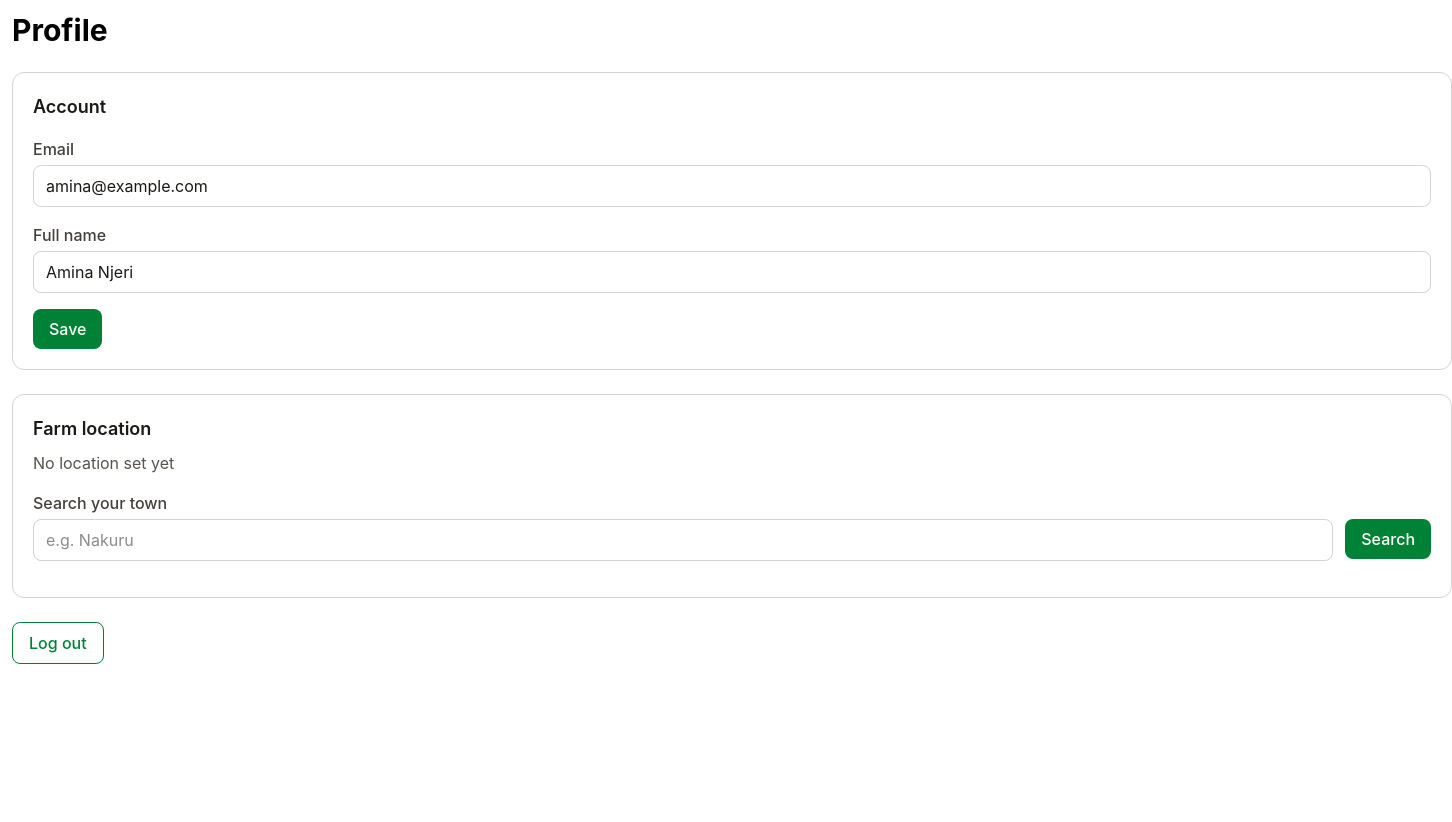
Test: Profile page › shows "No towns found" when nothing matches
In the field labelled "Search your town": coordinates (683, 540) [33,519,1333,561], type "Zzzz"
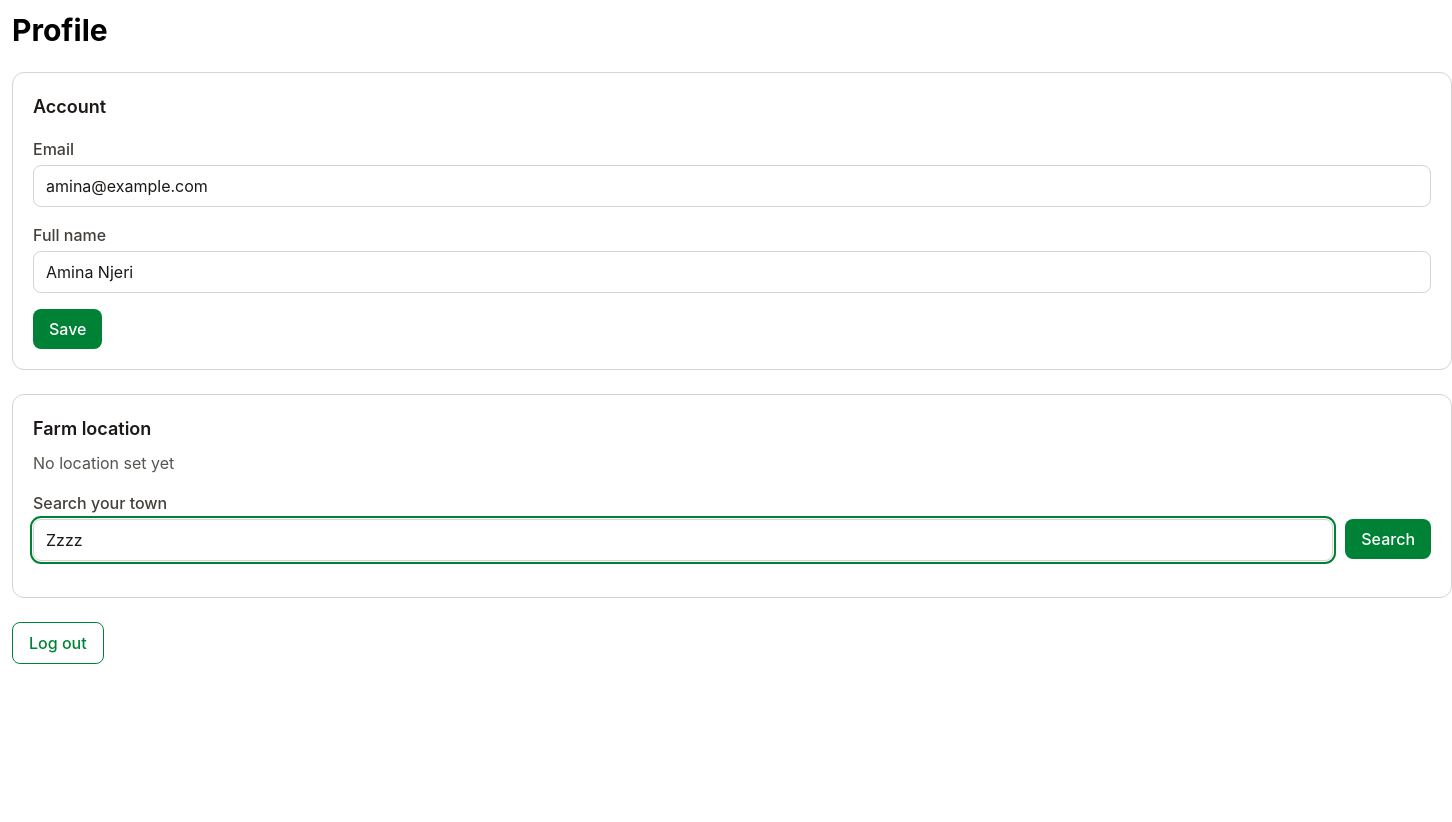
Click the button "Search": coordinates (1388, 539) [1345,519,1431,559]
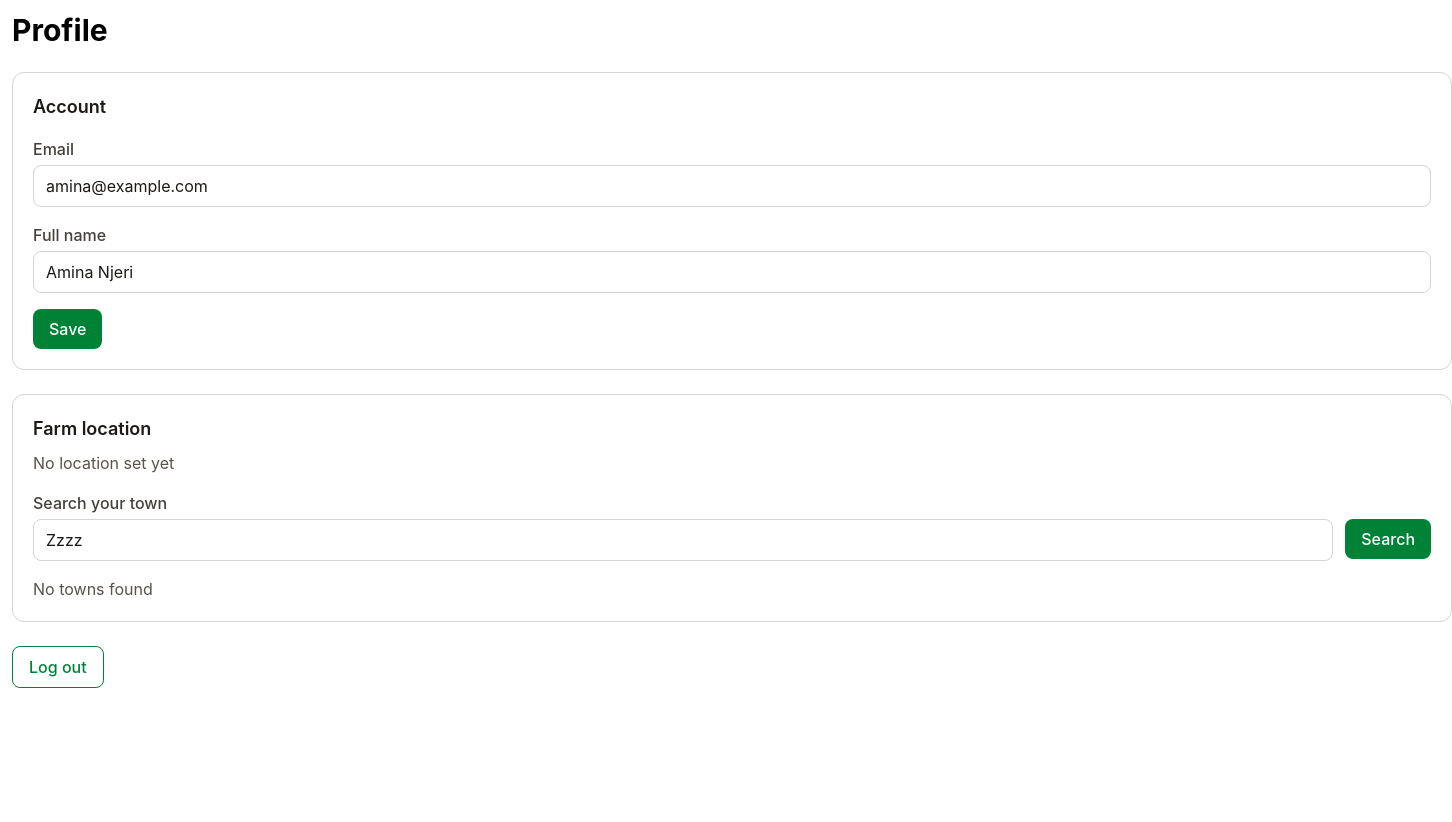
Expected: the text "No towns found" is shown, [33,579,153,599]
